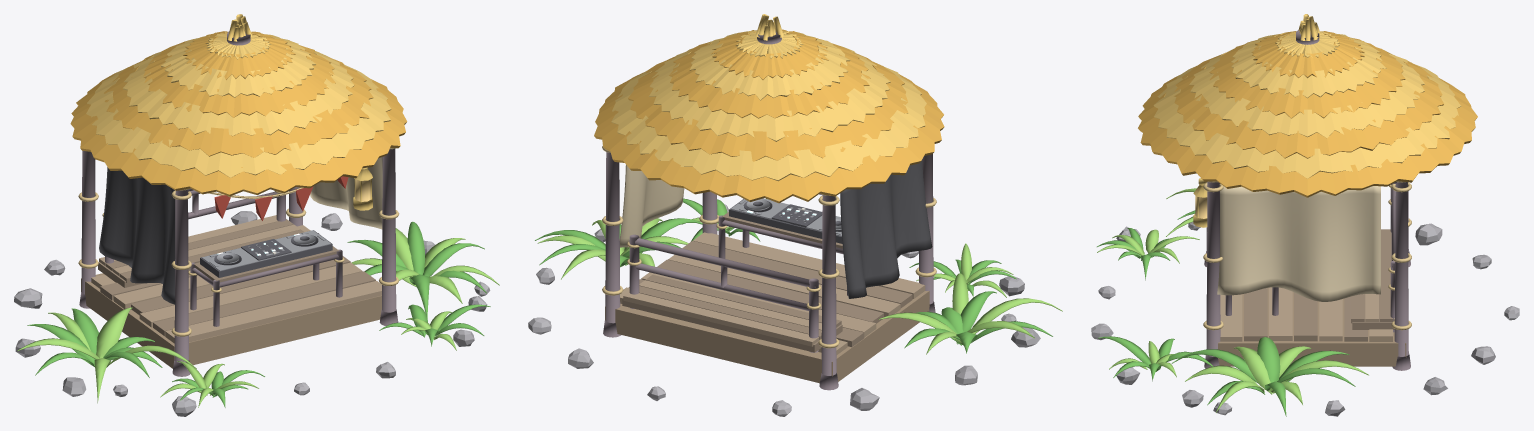
File: capanna_console.fbx
3 views of the same model, side by side, from view 1: azimuth 30°, elevation 25°; view 2: azimuth 150°, elevation 25°; view 3: azimuth 270°, elevation 25° (orthographic). The views are drawn at different scales.
Parts seen in each view (by area): view 1: Thatch_Layer_0, Thatch_Layer_1, Curtain_Left, Thatch_Layer_2, Dirt_Mound, Thatch_Layer_3, Thatch_Layer_4, Thatch_Layer_5, Plank_0, Thatch_Layer_6, Plank_1, Plank_2 (+26 smaller); view 2: Thatch_Layer_0, Thatch_Layer_1, Dirt_Mound, Curtain_Left, Thatch_Layer_2, Thatch_Layer_3, Thatch_Layer_4, Thatch_Layer_5, Thatch_Layer_6, Curtain_Right, Post_BL, Stage_Plank_3 (+28 smaller); view 3: Curtain_Right, Thatch_Layer_0, Thatch_Layer_1, Thatch_Layer_2, Thatch_Layer_3, Thatch_Layer_4, Thatch_Layer_5, Dirt_Mound, Thatch_Layer_6, Post_BR, Post_FR, Plank_1 (+17 smaller).
Part boxes in pixels (left/top/right/bottom): Thatch_Layer_0: left=70, top=71, right=407, bottom=196; Thatch_Layer_1: left=86, top=59, right=391, bottom=177; Curtain_Left: left=99, top=167, right=175, bottom=304; Thatch_Layer_2: left=104, top=52, right=373, bottom=157; Dirt_Mound: left=81, top=273, right=381, bottom=368; Thatch_Layer_3: left=123, top=51, right=354, bottom=136; Thatch_Layer_4: left=143, top=41, right=335, bottom=117; Thatch_Layer_5: left=161, top=34, right=315, bottom=97; Plank_0: left=165, top=281, right=381, bottom=343; Thatch_Layer_6: left=183, top=31, right=295, bottom=79; Plank_1: left=153, top=271, right=375, bottom=336; Plank_2: left=139, top=262, right=362, bottom=327; Thatch_Layer_0: left=594, top=71, right=944, bottom=203; Thatch_Layer_1: left=611, top=67, right=926, bottom=181; Dirt_Mound: left=605, top=291, right=929, bottom=383; Curtain_Left: left=840, top=160, right=932, bottom=298; Thatch_Layer_2: left=628, top=52, right=908, bottom=161; Thatch_Layer_3: left=649, top=46, right=890, bottom=141; Thatch_Layer_4: left=669, top=35, right=870, bottom=118; Thatch_Layer_5: left=689, top=31, right=850, bottom=100; Thatch_Layer_6: left=711, top=29, right=828, bottom=79; Curtain_Right: left=619, top=165, right=684, bottom=247; Post_BL: left=821, top=195, right=836, bottom=375; Stage_Plank_3: left=623, top=291, right=819, bottom=346; Curtain_Right: left=1217, top=186, right=1380, bottom=301; Thatch_Layer_0: left=1138, top=75, right=1477, bottom=197; Thatch_Layer_1: left=1153, top=61, right=1461, bottom=178; Thatch_Layer_2: left=1174, top=51, right=1443, bottom=158; Thatch_Layer_3: left=1189, top=48, right=1424, bottom=137; Thatch_Layer_4: left=1209, top=38, right=1405, bottom=118; Thatch_Layer_5: left=1231, top=31, right=1386, bottom=98; Dirt_Mound: left=1218, top=287, right=1406, bottom=366; Thatch_Layer_6: left=1251, top=31, right=1364, bottom=78; Post_BR: left=1394, top=182, right=1408, bottom=356; Post_FR: left=1206, top=181, right=1220, bottom=356; Plank_1: left=1244, top=288, right=1267, bottom=341.
Size of the model in its own units: 617 by 371 by 478.
